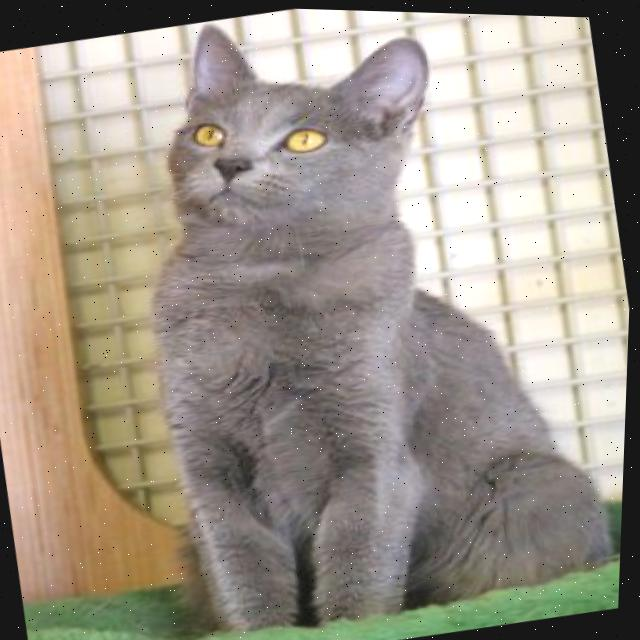Russian Blue: (86, 2, 640, 640)
